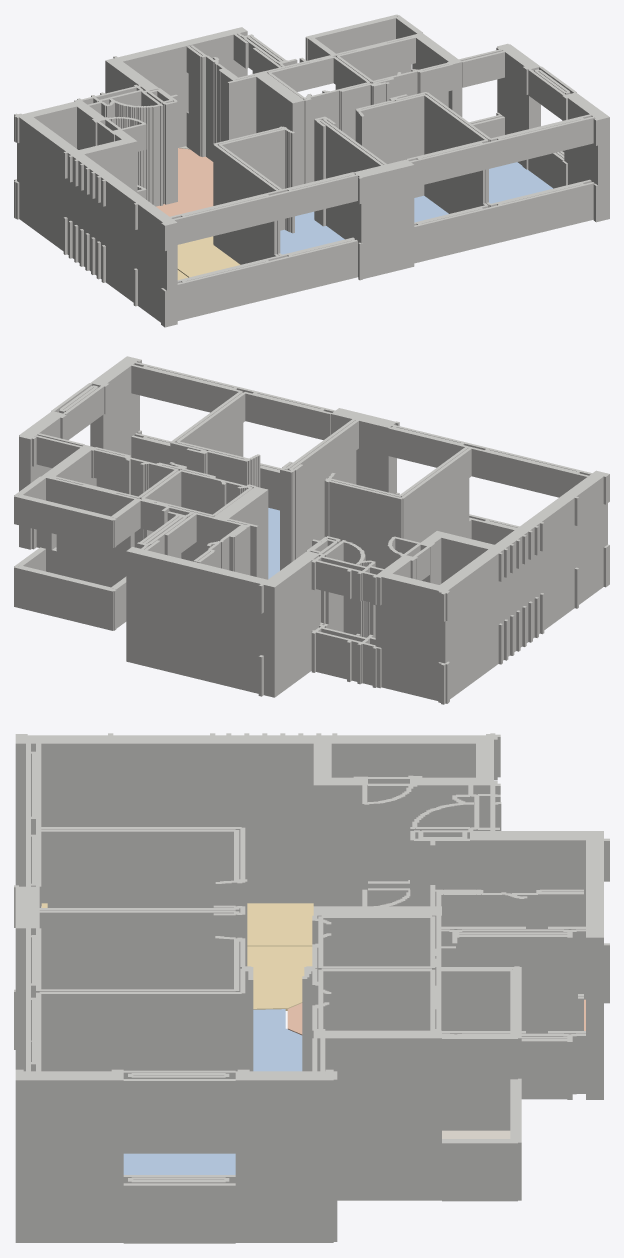
3 renders of one model, top to bottom at view 1: azimuth 30°, elevation 25°; view 2: azimuth 150°, elevation 25°; view 3: azimuth 270°, elevation 25°, orthographic. The views are drawn at different scales.
Visible parts, largest first — view 1: walls, room:kitchen:10, room:bedroom:8, room:living:5, room:bedroom:6, room:bedroom:7; view 2: walls, room:bedroom:7; view 3: walls, room:living:5, room:living:4, room:bedroom:6, room:bedroom:8.
Boxes of the visible parts, x1=… form: walls: x1=14, y1=14, x2=609, y2=327; room:kitchen:10: x1=156, y1=148, x2=213, y2=216; room:bedroom:8: x1=489, y1=162, x2=552, y2=203; room:living:5: x1=177, y1=236, x2=240, y2=277; room:bedroom:6: x1=280, y1=211, x2=344, y2=254; room:bedroom:7: x1=414, y1=195, x2=448, y2=222; walls: x1=14, y1=356, x2=609, y2=704; room:bedroom:7: x1=268, y1=508, x2=279, y2=578; walls: x1=14, y1=733, x2=609, y2=1243; room:living:5: x1=247, y1=946, x2=312, y2=1010; room:living:4: x1=41, y1=903, x2=313, y2=946; room:bedroom:6: x1=253, y1=1009, x2=302, y2=1071; room:bedroom:8: x1=123, y1=1153, x2=235, y2=1174.
Bounding box in the file's own units: 12.86 × 2.8 × 9.31.
